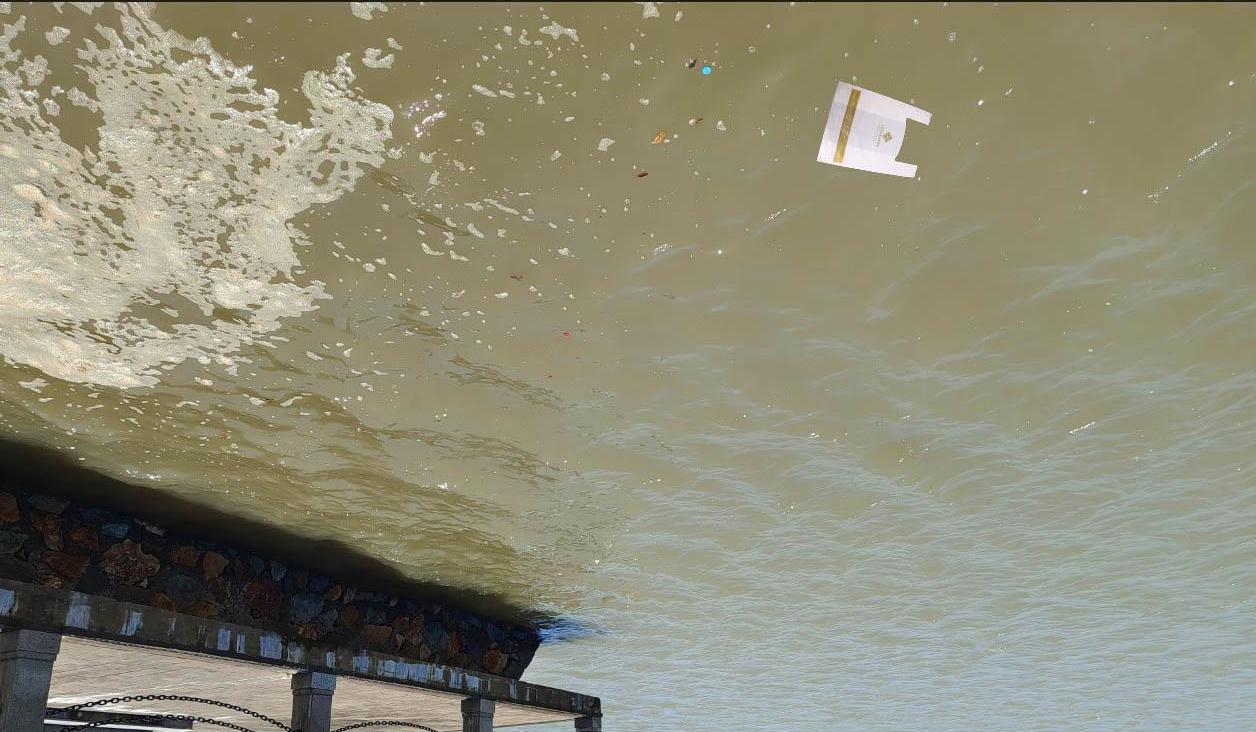Trash: (810, 76, 936, 181)
